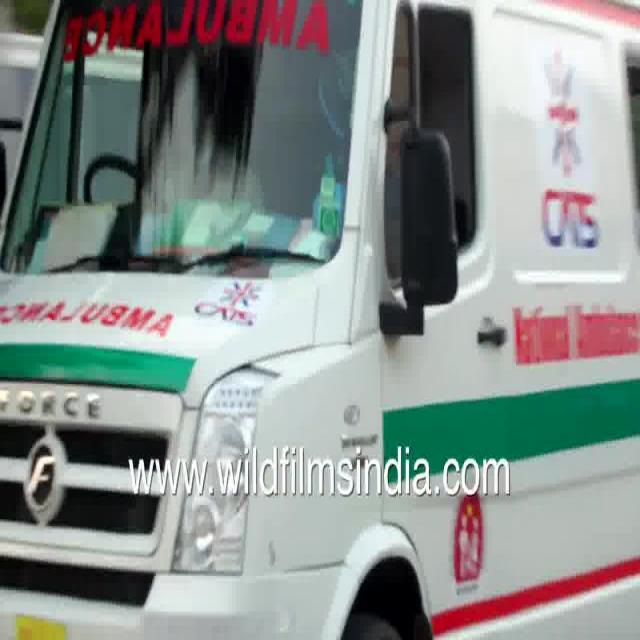ambulance: (0, 0, 640, 454), (1, 490, 639, 640)
